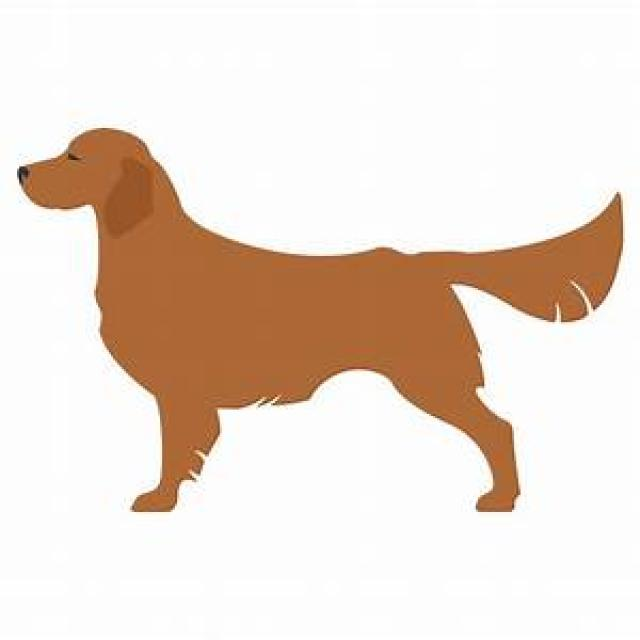KOPEK: (14, 123, 616, 518)
